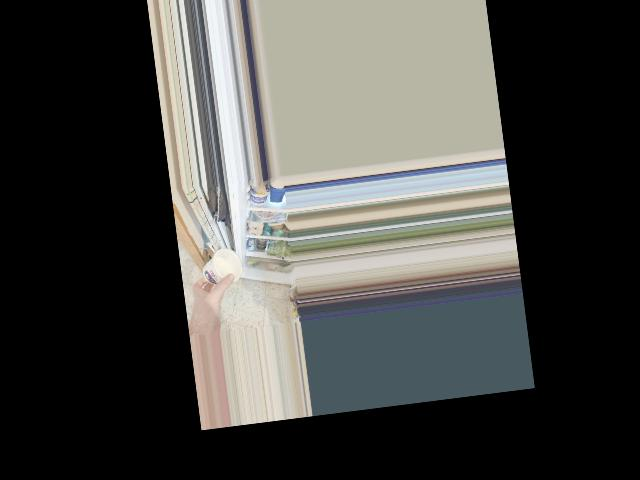cotage: (198, 246, 244, 289)
